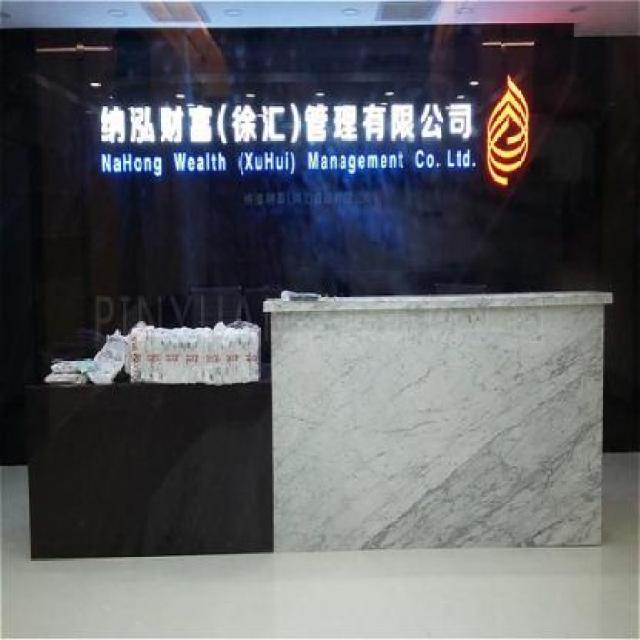frontdesk: (17, 277, 624, 569)
